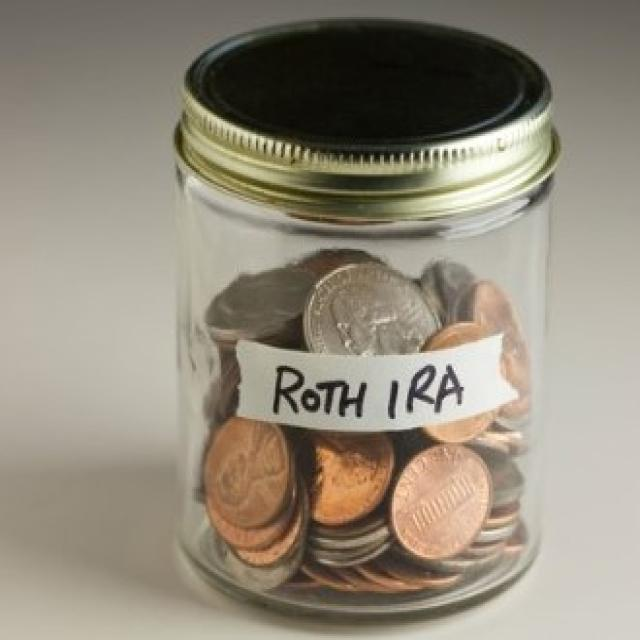electronic: (170, 13, 562, 626)
